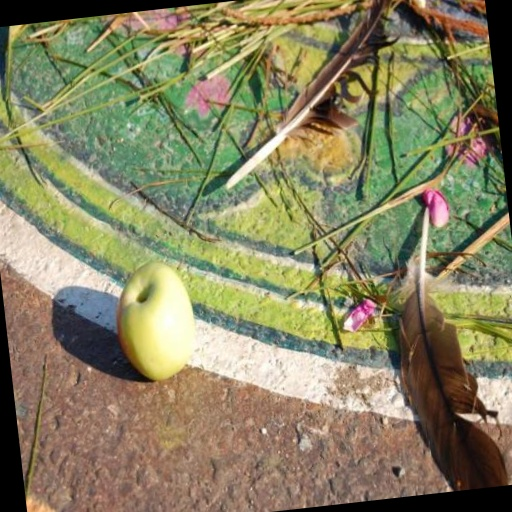fruit: (0, 171, 370, 512)
